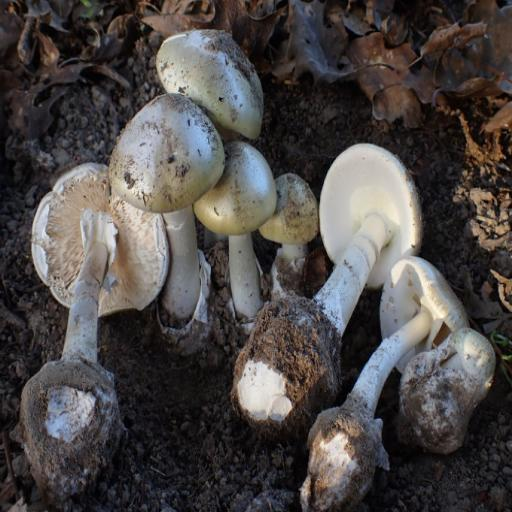mushroom: (21, 26, 499, 506)
